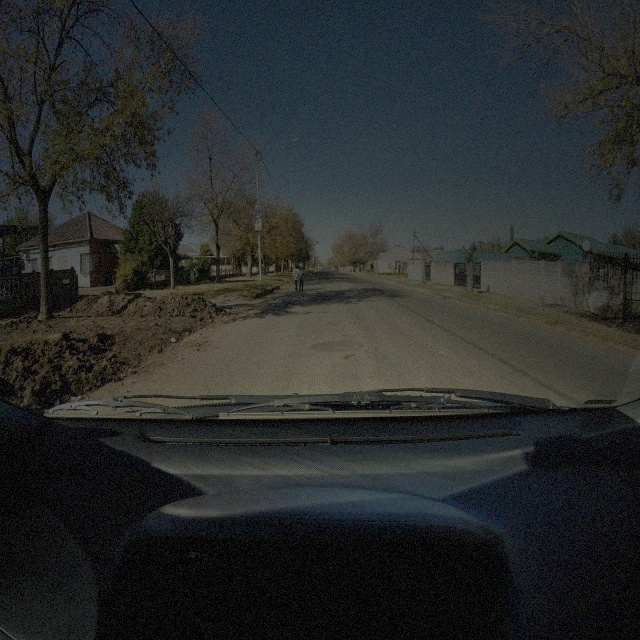pothole: (344, 353, 362, 365), (342, 334, 354, 342)
